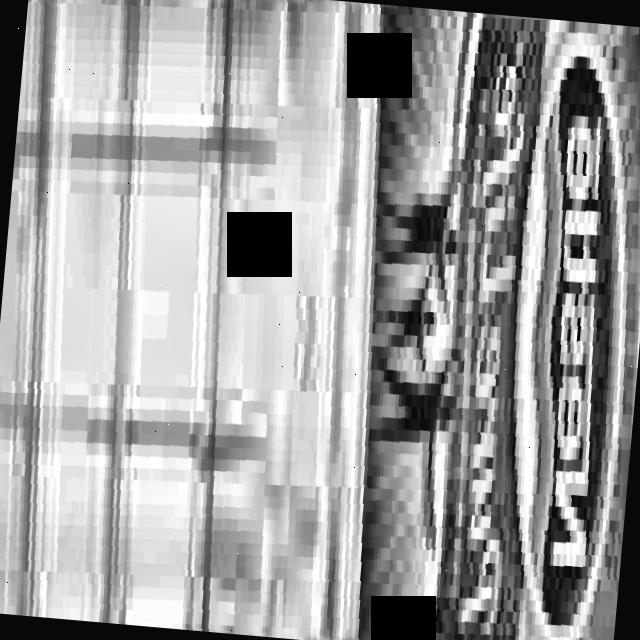bottle: (0, 0, 640, 640)
